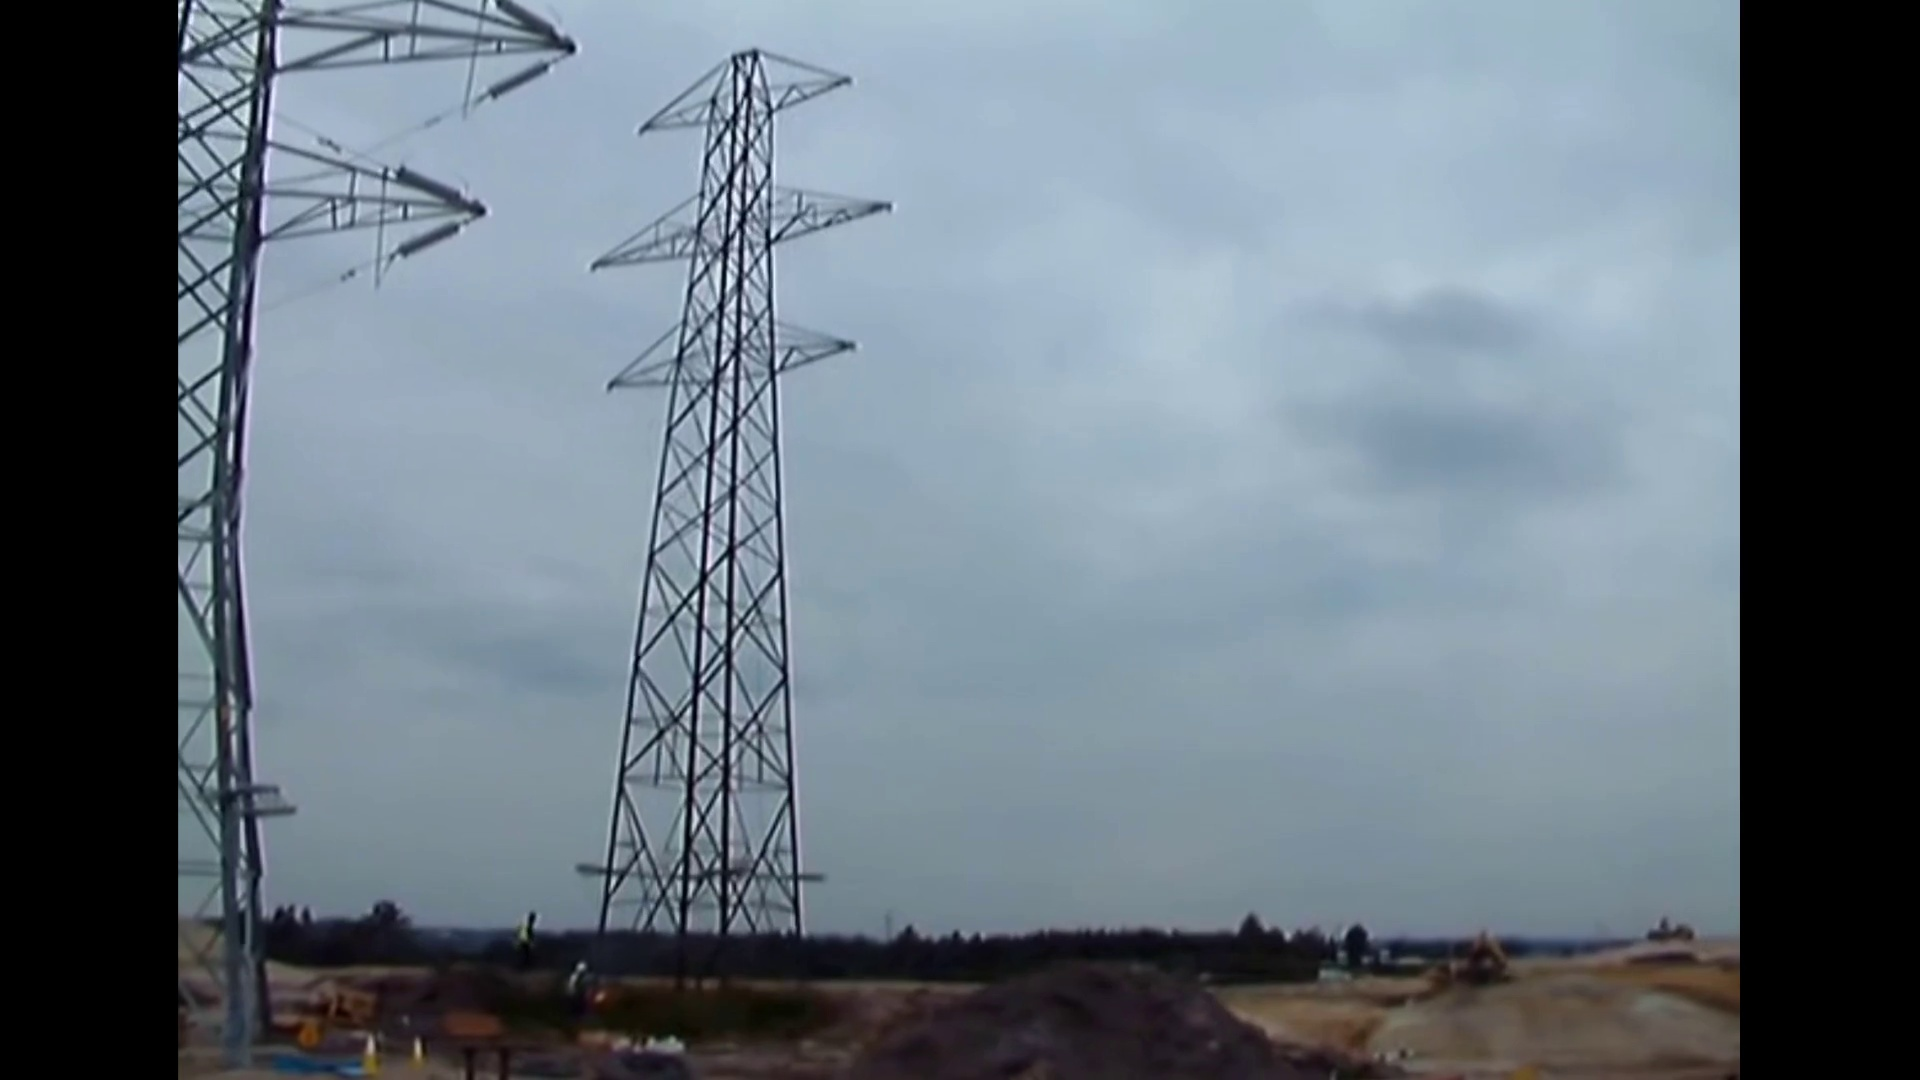tower_up: (564, 38, 893, 939)
